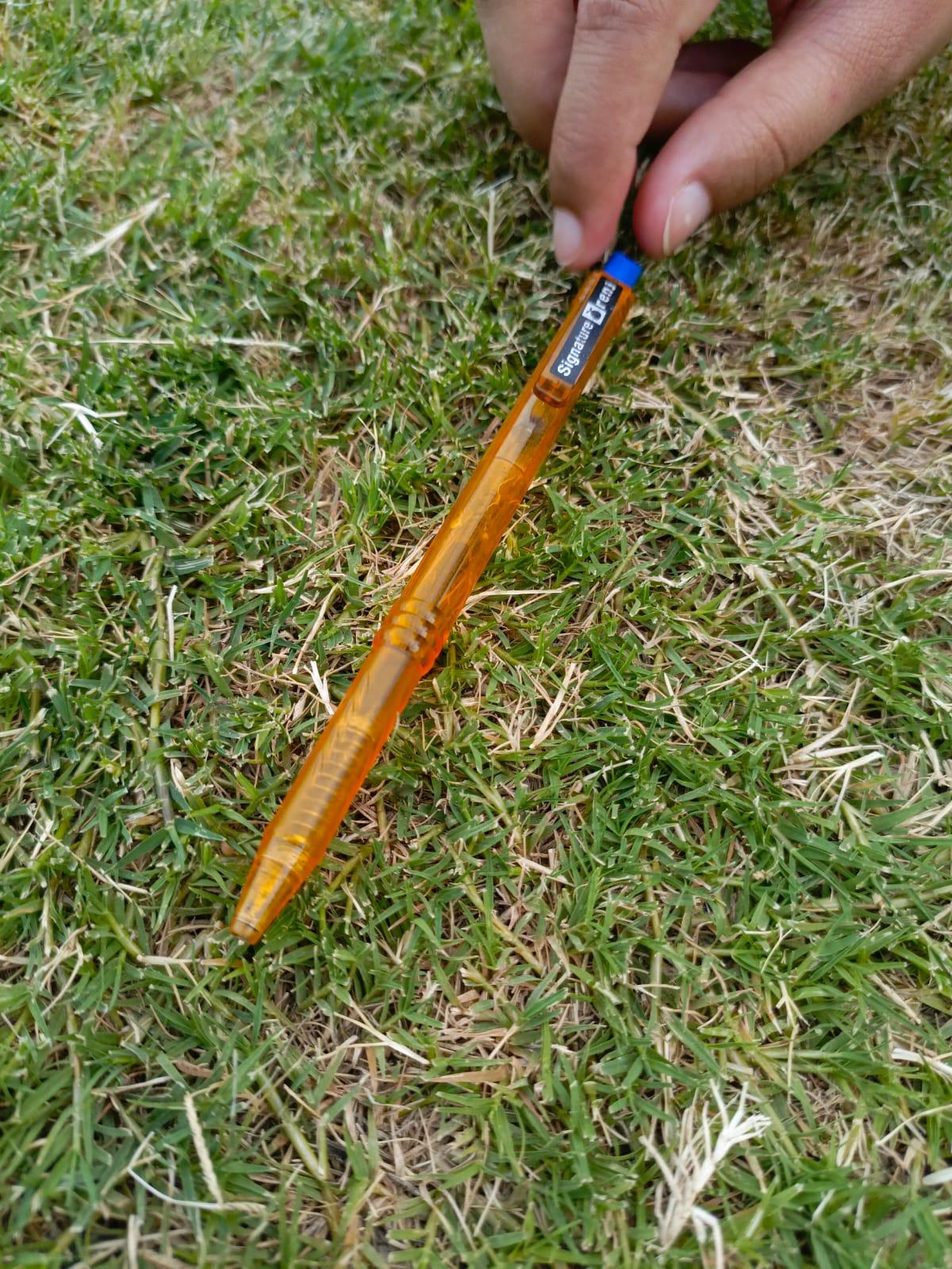marker: (231, 256, 639, 941)
